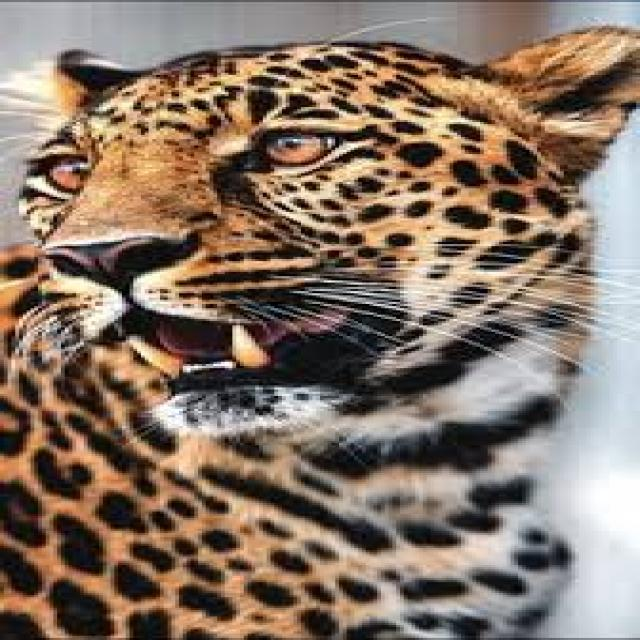Jaguar: (4, 30, 621, 640)
